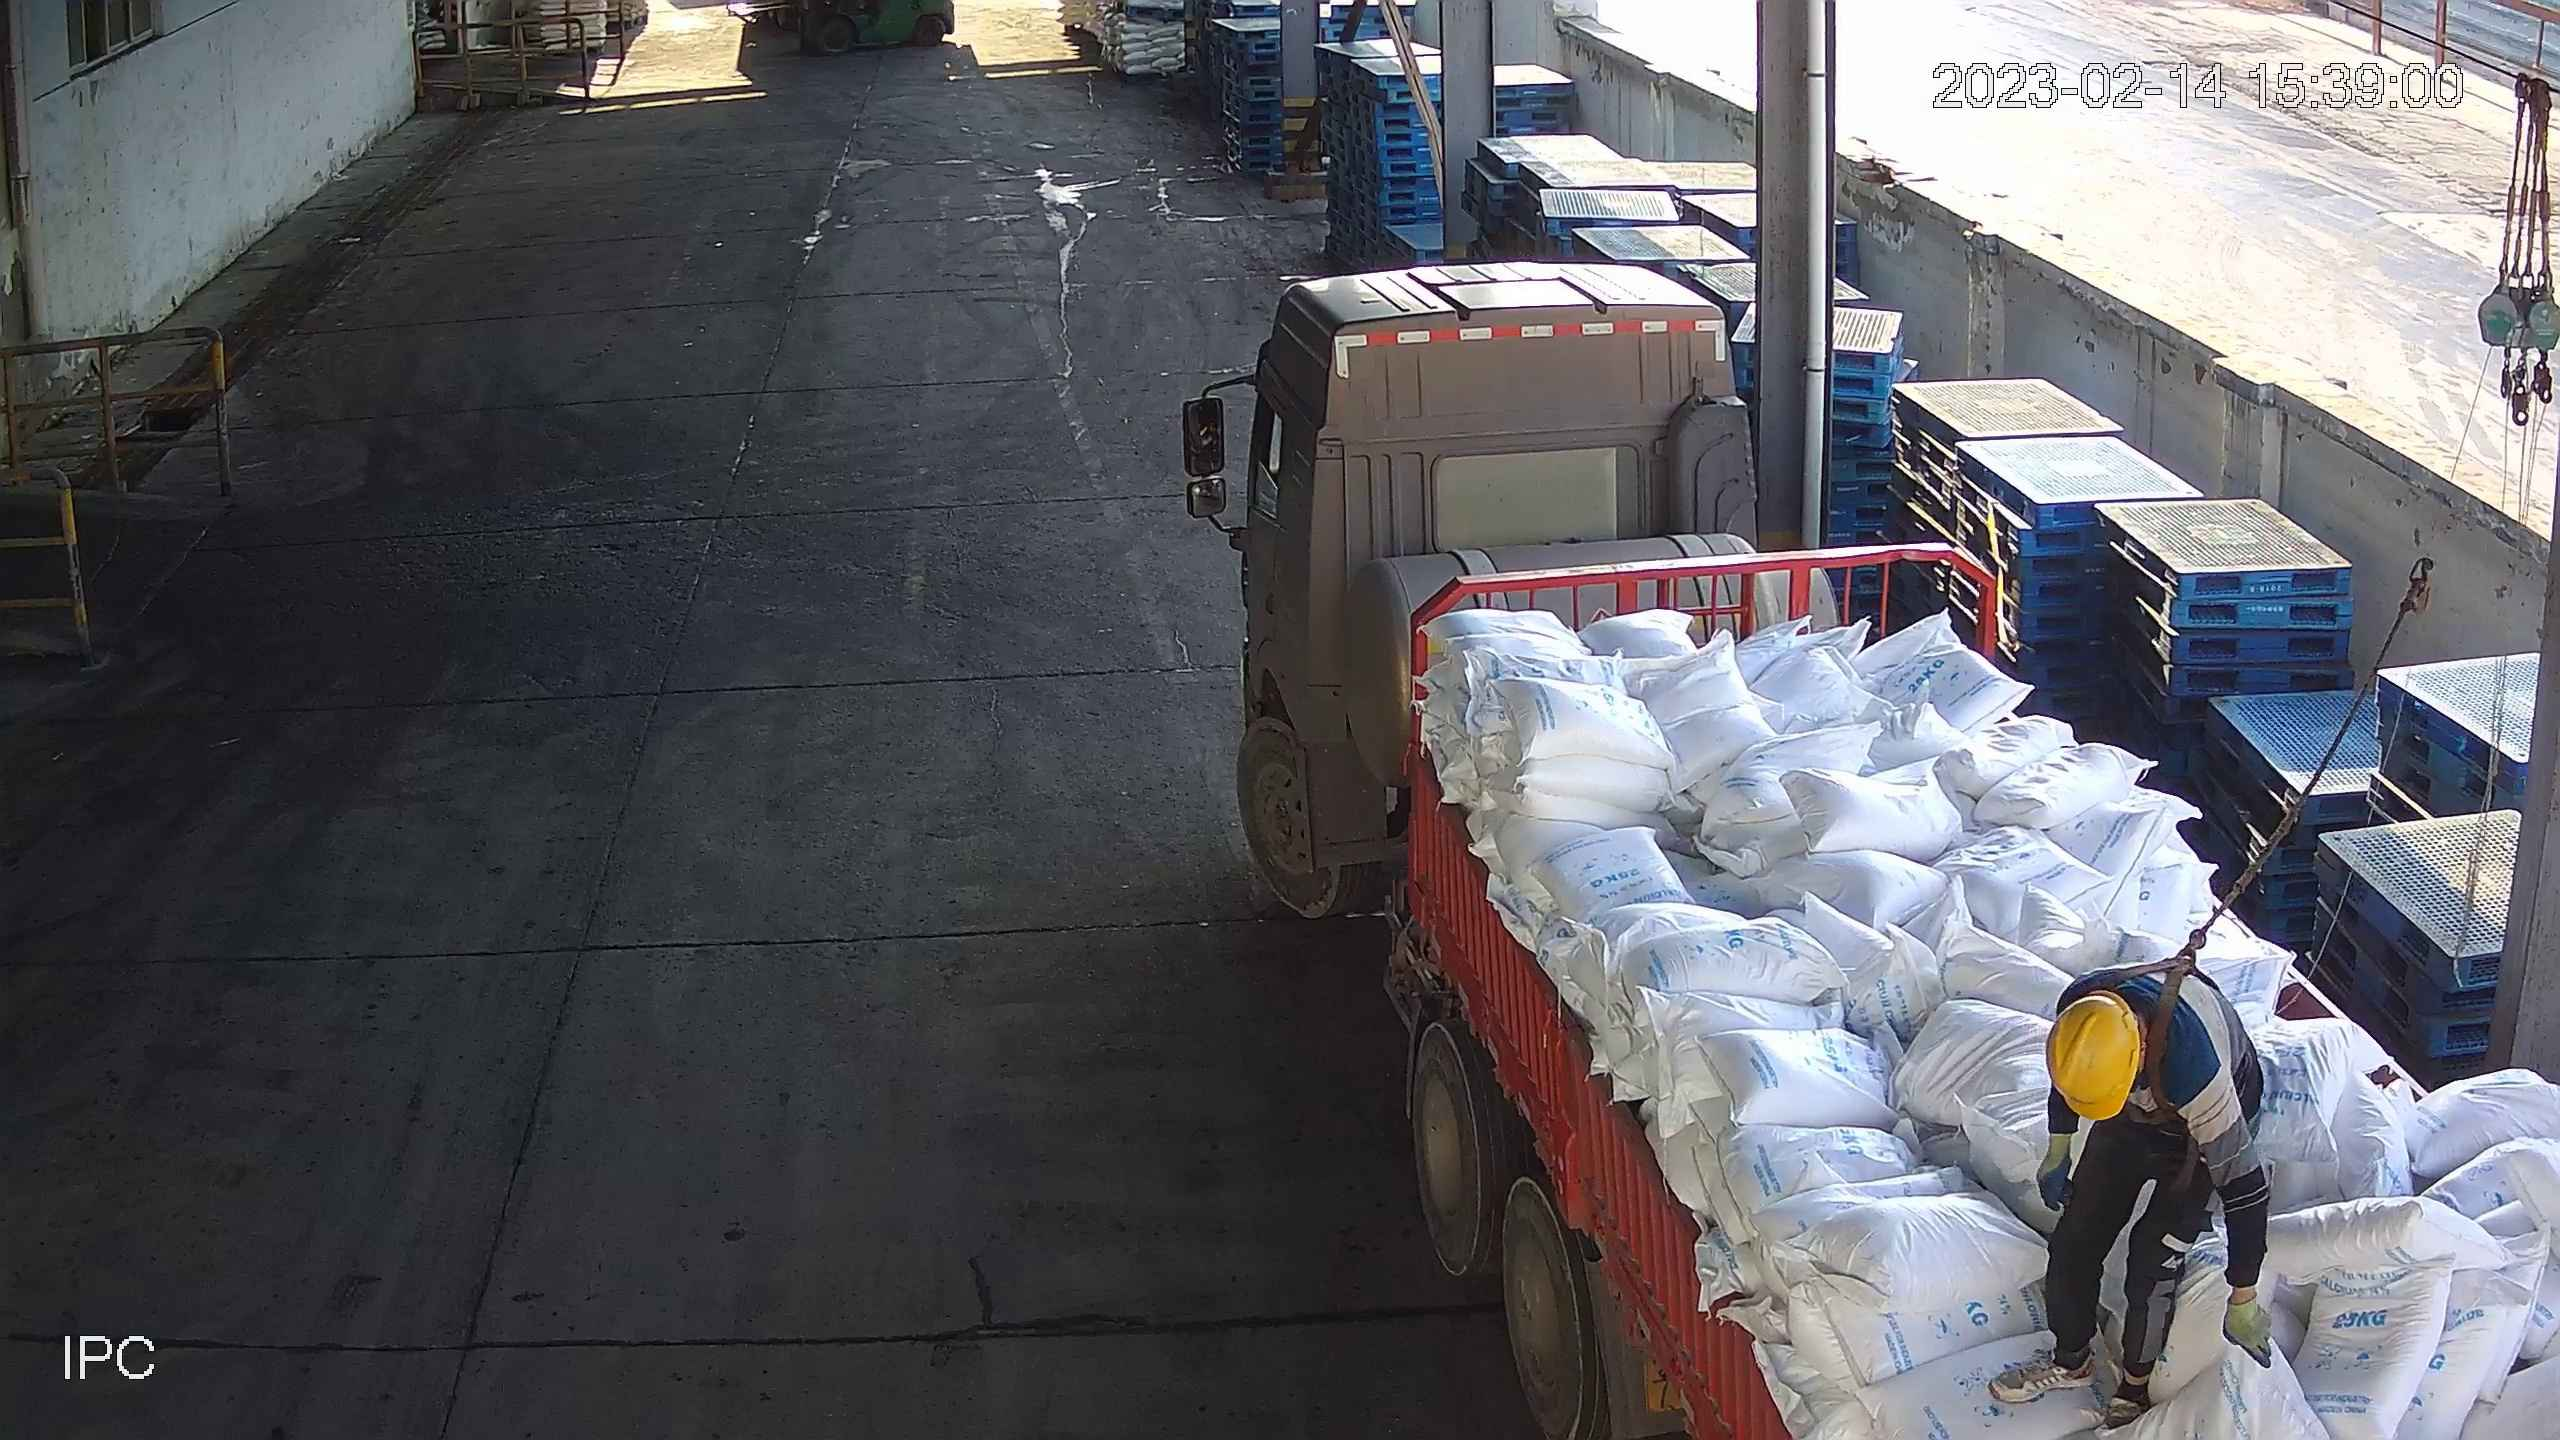belt: (2118, 934, 2238, 1060)
head: (2044, 979, 2228, 1143)
helmet: (2041, 992, 2144, 1125)
people: (1986, 948, 2302, 1434)
truck: (1174, 257, 2560, 1440)
